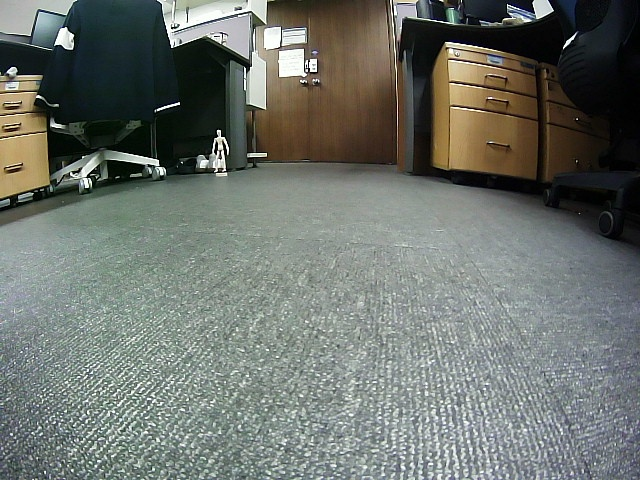person: (212, 128, 230, 172)
